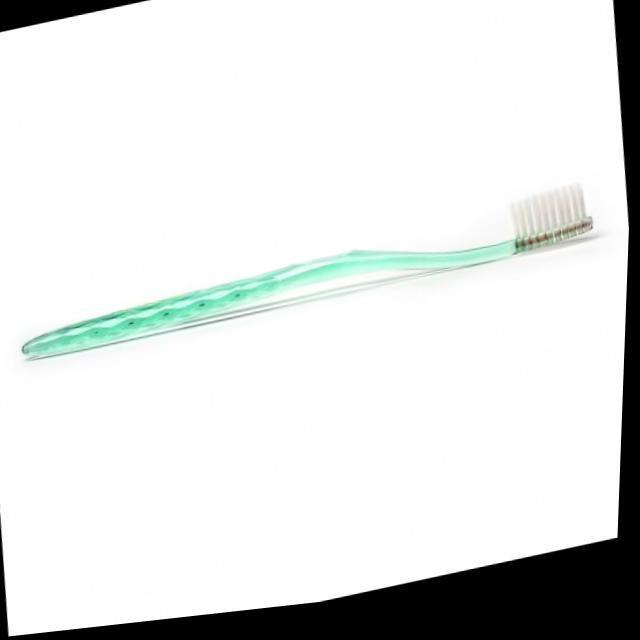toothbrush: (1, 182, 601, 382)
